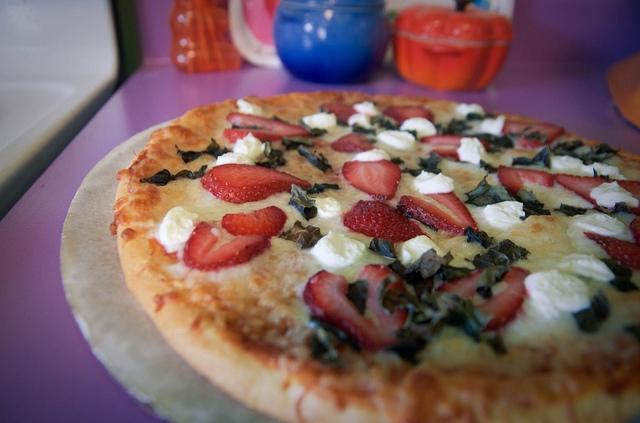strawberry: (304, 264, 408, 351), (434, 266, 530, 330), (182, 220, 272, 272), (200, 164, 312, 204), (344, 199, 426, 244), (398, 190, 478, 236), (554, 174, 640, 216), (222, 112, 310, 142), (342, 158, 400, 200), (221, 205, 288, 239), (584, 232, 640, 272), (419, 134, 491, 161), (501, 120, 566, 148), (498, 166, 554, 196), (383, 105, 434, 127), (330, 132, 380, 152), (322, 101, 359, 126)
